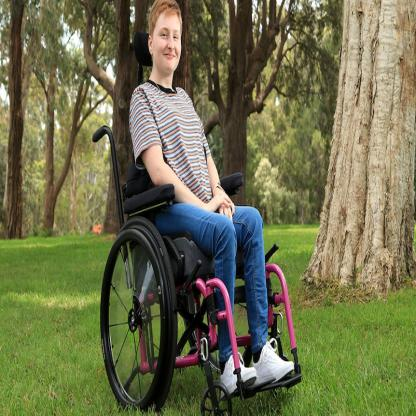wheelchair: (88, 0, 306, 415)
